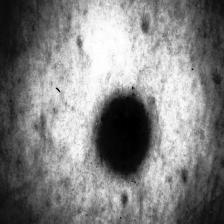Benign Marking or Mole: (100, 98, 153, 174)
